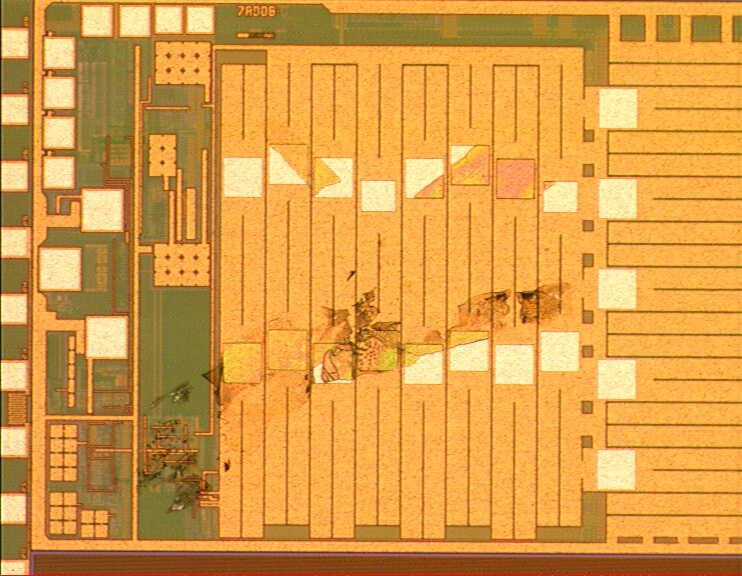COATING BAD: (124, 117, 578, 520)
